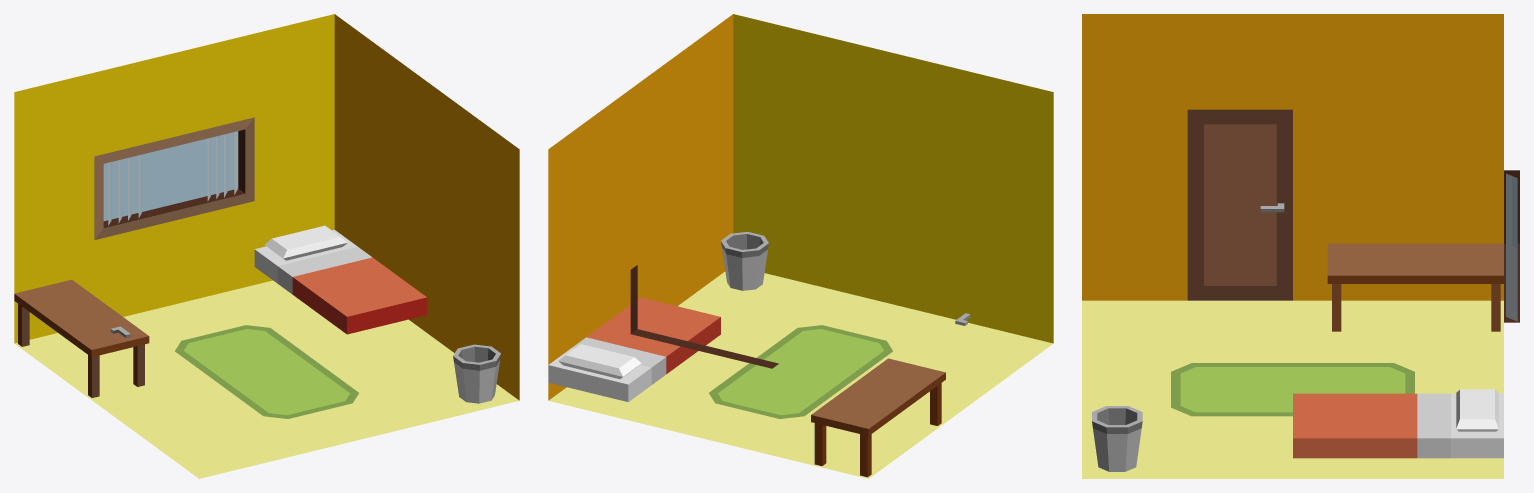
The model's file is bedroom.glb.
3 views of the same model, side by side, from view 1: azimuth 30°, elevation 25°; view 2: azimuth 150°, elevation 25°; view 3: azimuth 270°, elevation 25° (orthographic). The views are drawn at different scales.
Parts seen in each view (by area): view 1: Room, Rug, Desk; view 2: Room, Rug, Desk; view 3: Room, Rug, Desk.
Part boxes in pixels (x1,y1,x2,y2): Room: (14, 14, 519, 478); Rug: (175, 325, 358, 418); Desk: (14, 279, 149, 397); Room: (548, 14, 1053, 478); Rug: (709, 325, 892, 418); Desk: (811, 358, 945, 477); Room: (1082, 14, 1519, 478); Rug: (1171, 363, 1414, 416); Desk: (1327, 243, 1503, 331).
Size of the model in its own units: 2 by 1.5 by 2.08.
1 material, 1 textured.
